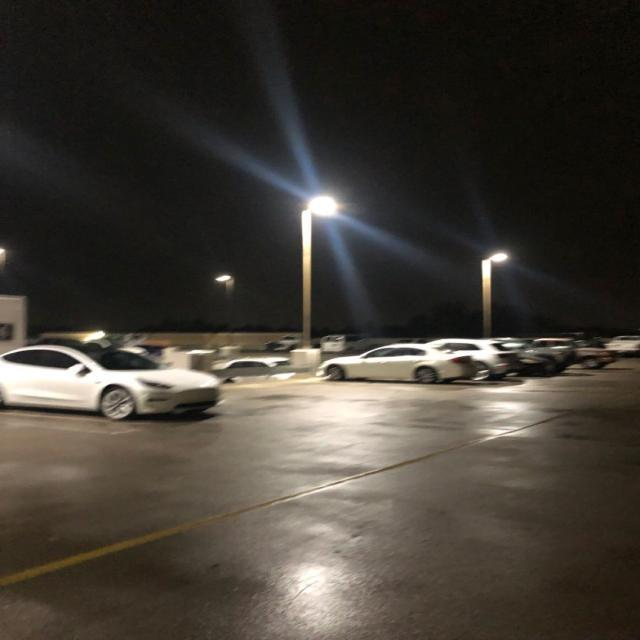on: (295, 166, 372, 280), (480, 236, 540, 330)
